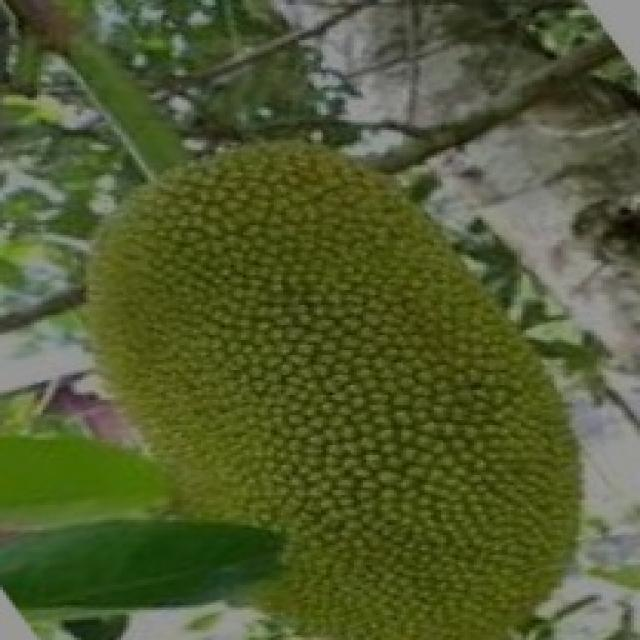Fruit: (233, 237, 612, 640)
